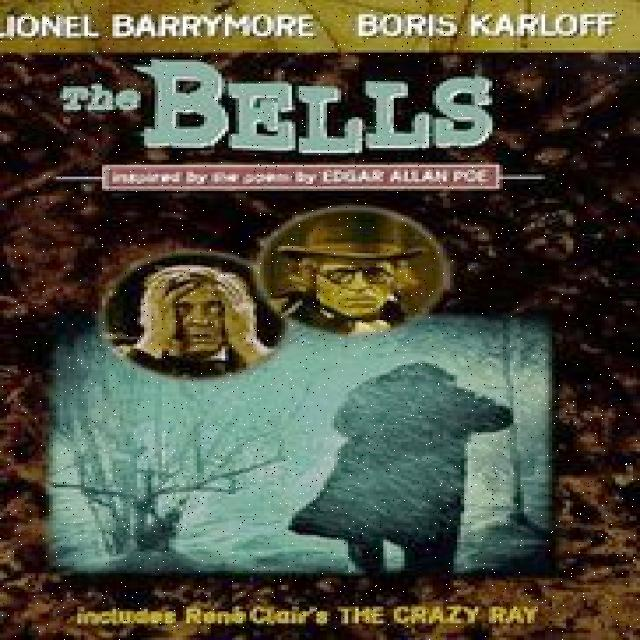movie-judul: (29, 55, 589, 199)
picture: (5, 50, 640, 640)
